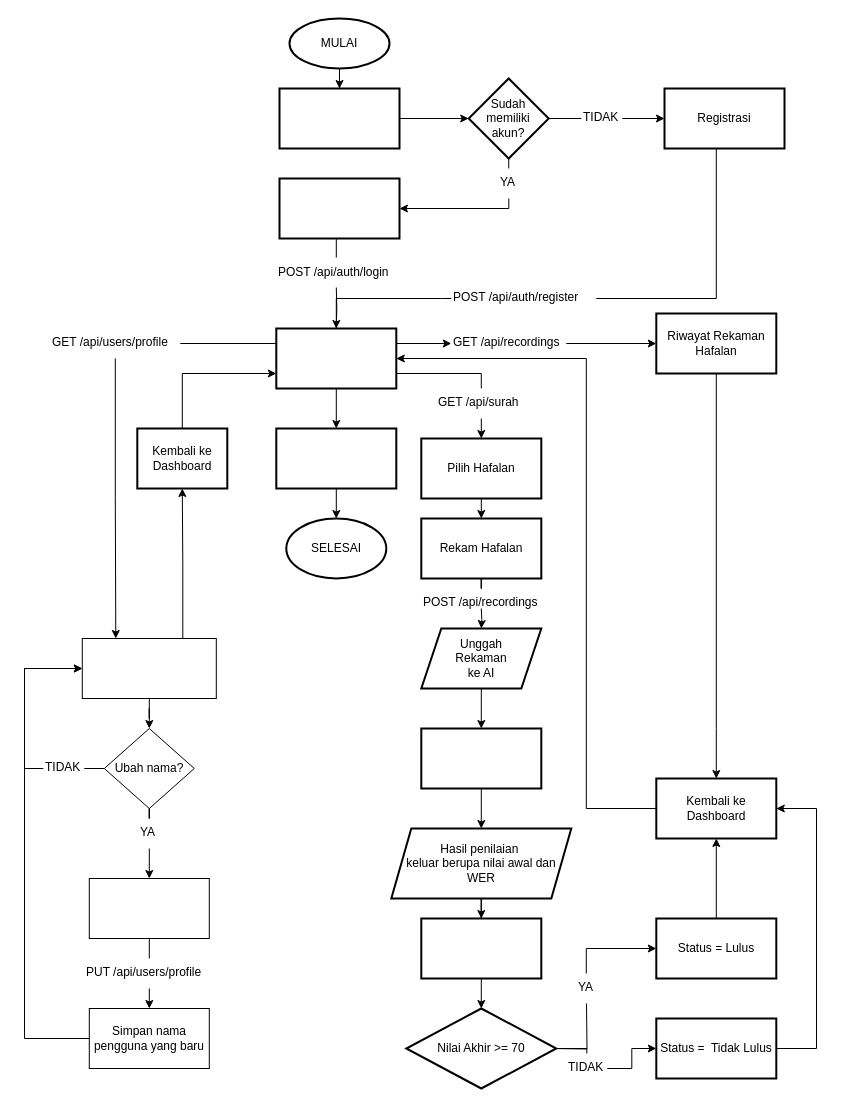
The diagram is 842 pixels wide and 1106 high, and some of its shapes have lost their labels. Each missing label, with the centre of its shape:
"AI memproses rekaman hafalan" belongs at point (481, 758).
"Dashboard" belongs at point (336, 358).
"Halaman Awal" belongs at point (339, 118).
"Lihat nama pengguna pada Profil" belongs at point (148, 668).
"Login" belongs at point (339, 208).
"Logout" belongs at point (336, 458).
"Nilai Akhir = Nilai Awal - WER" belongs at point (481, 948).
"Ubah nama pengguna" belongs at point (148, 908).
